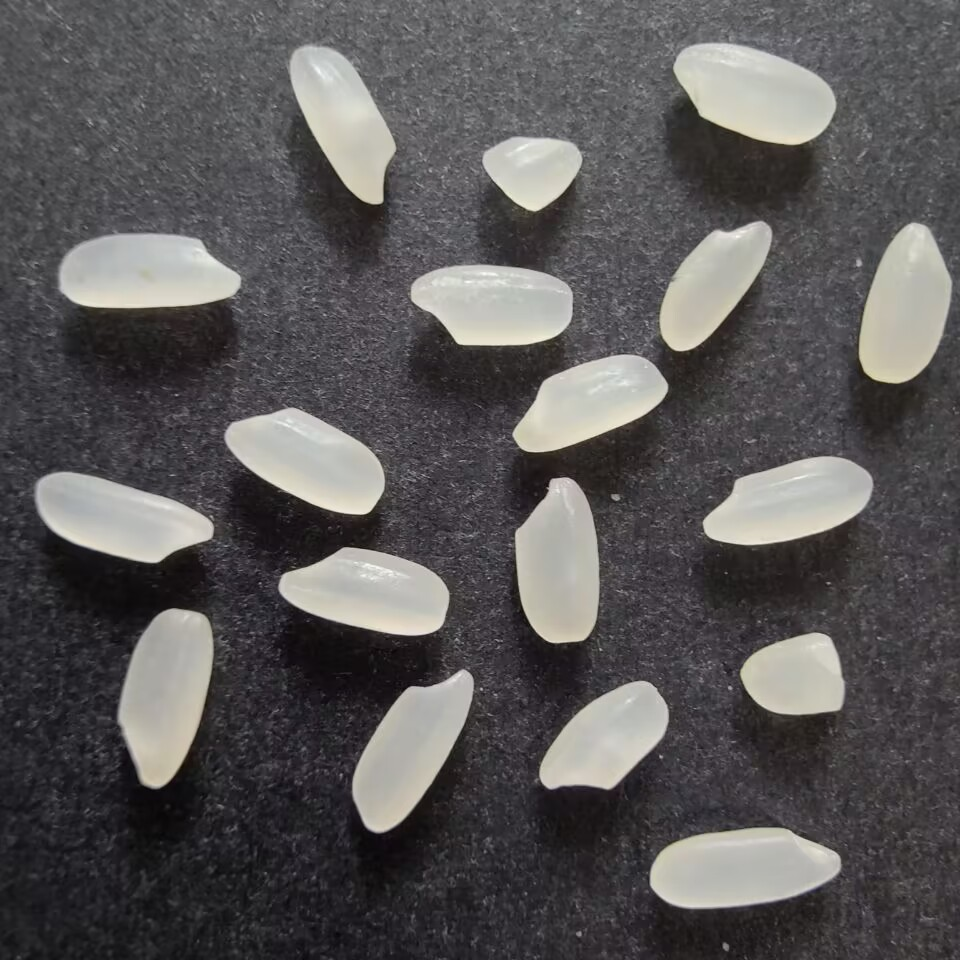broken: (739, 630, 848, 719), (477, 132, 585, 214)
rice: (348, 664, 477, 840), (219, 403, 387, 519), (118, 603, 216, 797), (286, 42, 399, 210), (670, 39, 838, 148), (31, 469, 218, 566), (701, 453, 879, 550), (276, 542, 452, 640), (645, 825, 844, 911), (854, 218, 954, 387), (512, 354, 671, 457), (658, 216, 775, 355), (533, 678, 671, 794), (512, 474, 602, 650), (53, 232, 246, 311), (407, 262, 576, 349)
